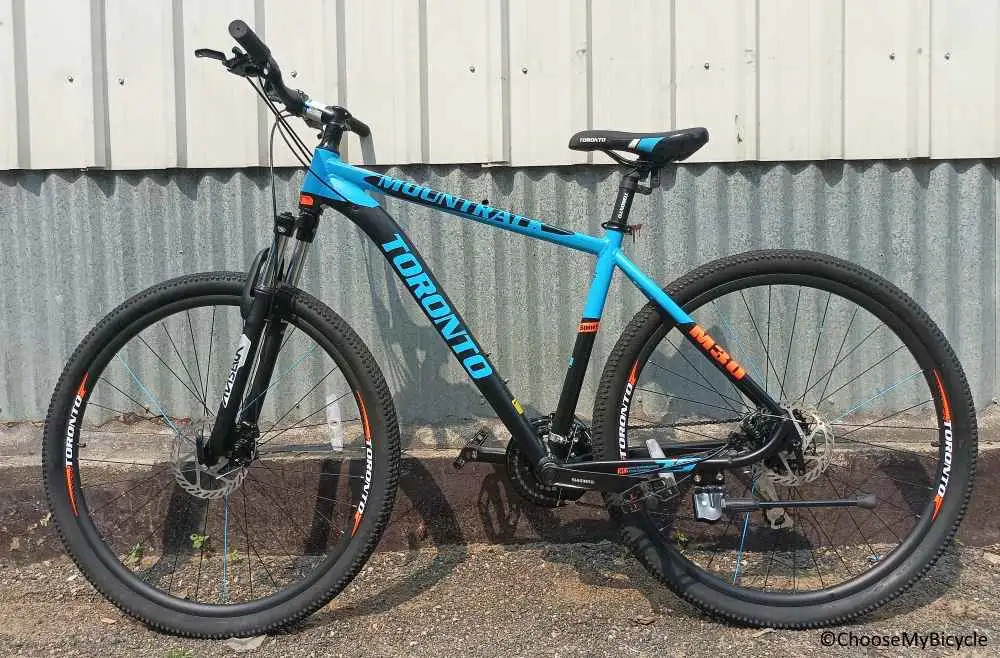bicycle: (38, 18, 982, 640)
